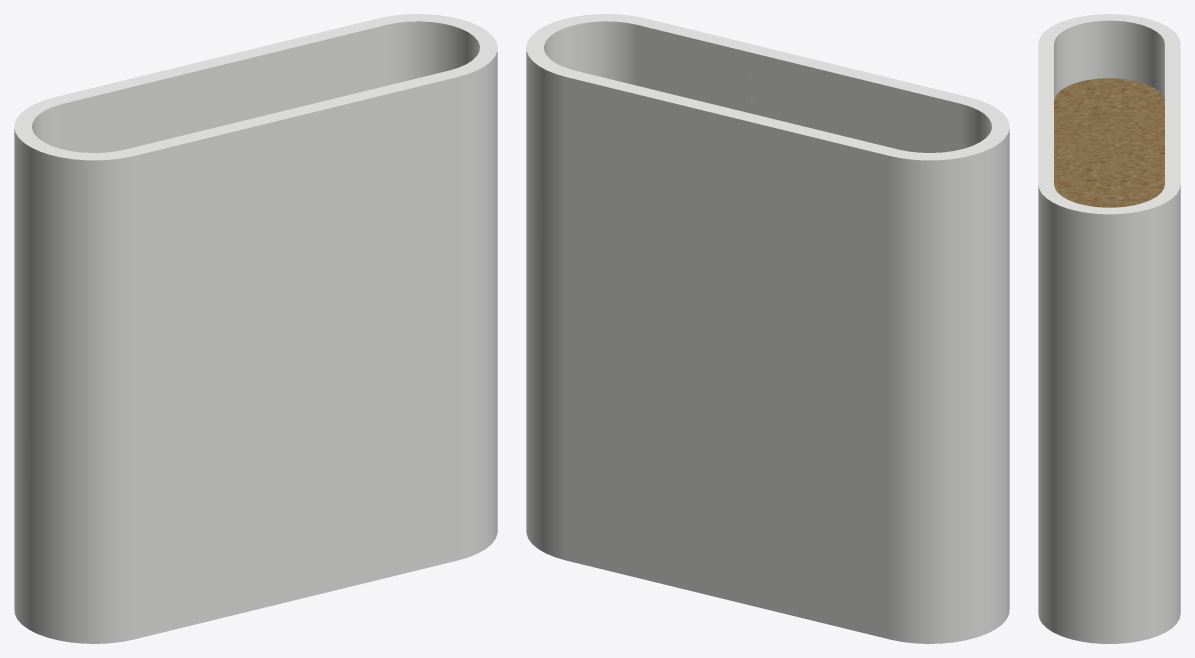
3 views of the same model, side by side, from view 1: azimuth 30°, elevation 25°; view 2: azimuth 150°, elevation 25°; view 3: azimuth 270°, elevation 25° (orthographic). The views are drawn at different scales.
Visible parts, largest first — view 1: Полистирол 2 — часть 1, Полистирол 2 — часть 2, ХДФ внутренний — часть 1 — шип, ХДФ внутренний — часть 2 — паз, Полистирол 2 — верхнее кольцо; view 2: Полистирол 2 — часть 1, Полистирол 2 — часть 2, ХДФ внутренний — часть 1 — шип, ХДФ внутренний — часть 2 — паз, Полистирол 2 — верхнее кольцо; view 3: Полистирол 2 — часть 2, Дно ниши, Полистирол 2 — верхнее кольцо, ХДФ внутренний — часть 1 — шип.
Boxes of the visible parts, x1,y1,x2,y2 form: Полистирол 2 — часть 1: (14,117,295,643); Полистирол 2 — часть 2: (296,49,497,599); ХДФ внутренний — часть 1 — шип: (32,54,272,152); ХДФ внутренний — часть 2 — паз: (269,22,479,114); Полистирол 2 — верхнее кольцо: (14,14,497,161); Полистирол 2 — часть 1: (728,117,1009,643); Полистирол 2 — часть 2: (526,49,727,599); ХДФ внутренний — часть 1 — шип: (751,54,991,152); ХДФ внутренний — часть 2 — паз: (544,22,754,114); Полистирол 2 — верхнее кольцо: (526,14,1009,161); Полистирол 2 — часть 2: (1038,186,1180,643); Дно ниши: (1054,78,1164,207); Полистирол 2 — верхнее кольцо: (1038,14,1180,215); ХДФ внутренний — часть 1 — шип: (1054,21,1164,100).
Bounding box in the file's own units: 1 × 1 × 0.3.
Materials: 3 (1 with a texture image).
